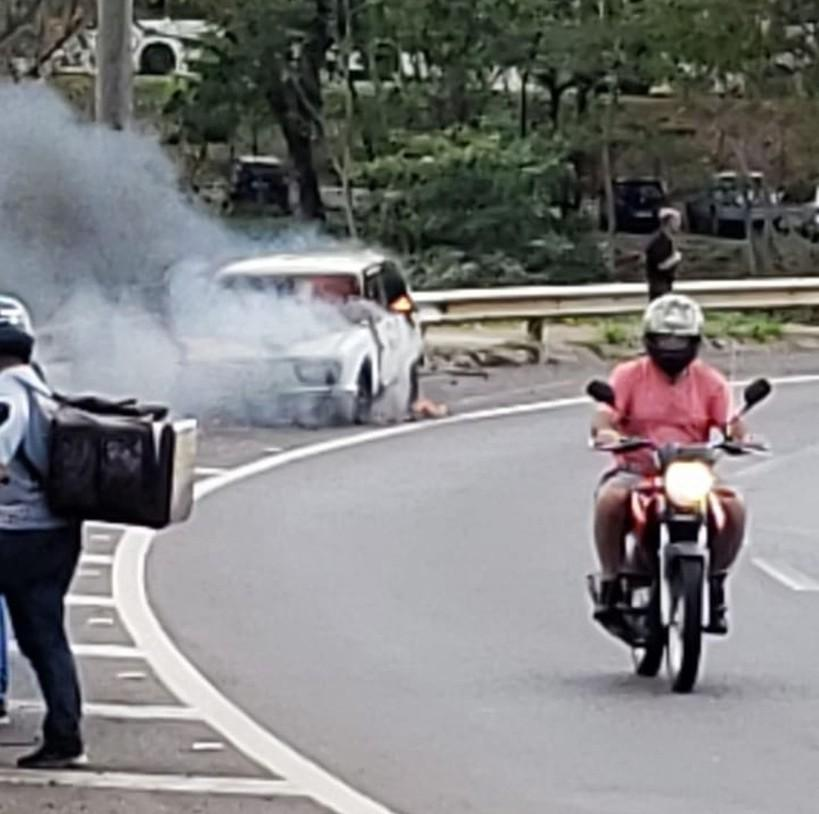fire: (410, 397, 447, 415)
